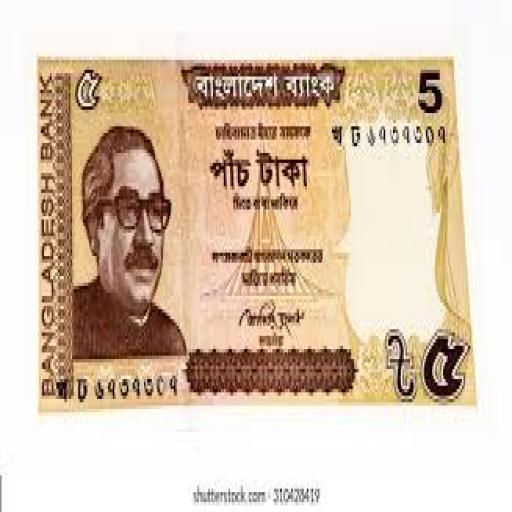5taka: (36, 57, 474, 409)
